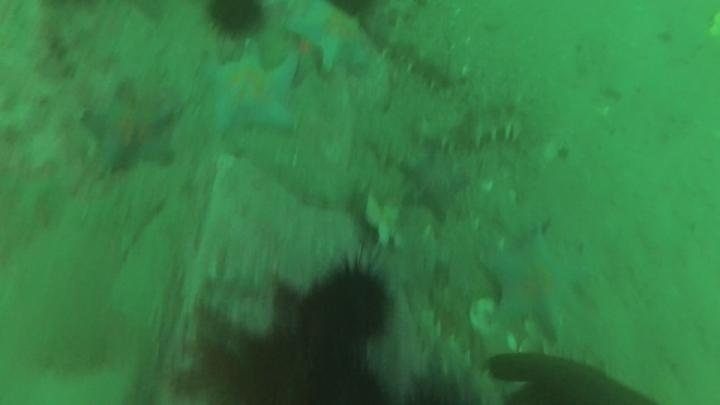echinus: (301, 265, 392, 350), (224, 340, 307, 405), (302, 352, 393, 405), (393, 363, 497, 405), (202, 1, 268, 41)
holothurian: (409, 301, 515, 405), (413, 88, 532, 156), (369, 15, 462, 93)
starfish: (488, 234, 598, 350), (199, 42, 303, 140), (81, 86, 179, 177), (285, 3, 375, 77), (398, 148, 470, 220)
